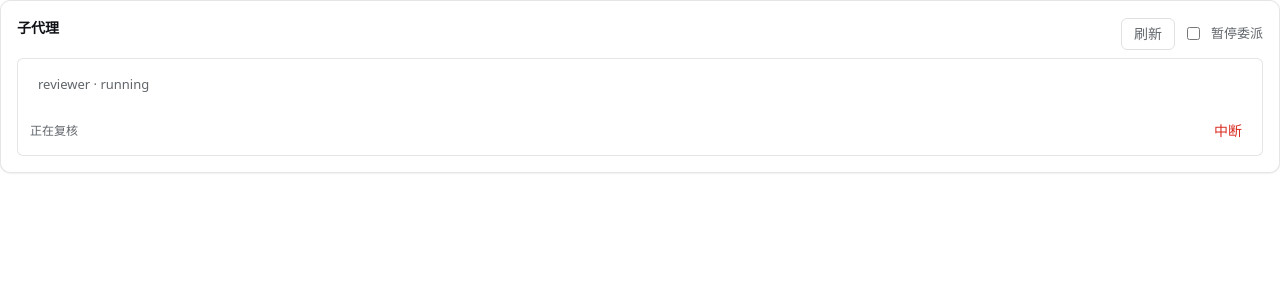
Test: SubagentsPanel T17.5 子代理观测 › renders live children and tails output from the gateway
Expected: the text "正在复核" is shown, [30,122,78,138]
Click the button with aria-label "查看子代理 reviewer 输出" at {"x": 64, "y": 84}, box [30,67,1250,102]
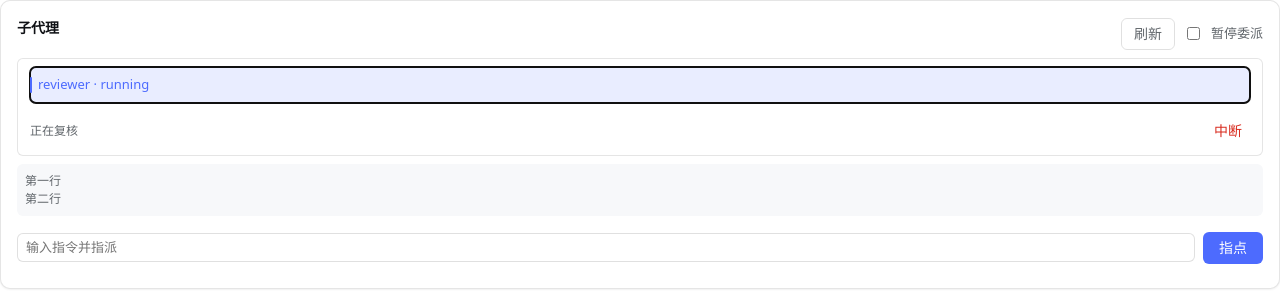
Expected: the text "第一行 第二行" is shown, [17,164,1263,216]
